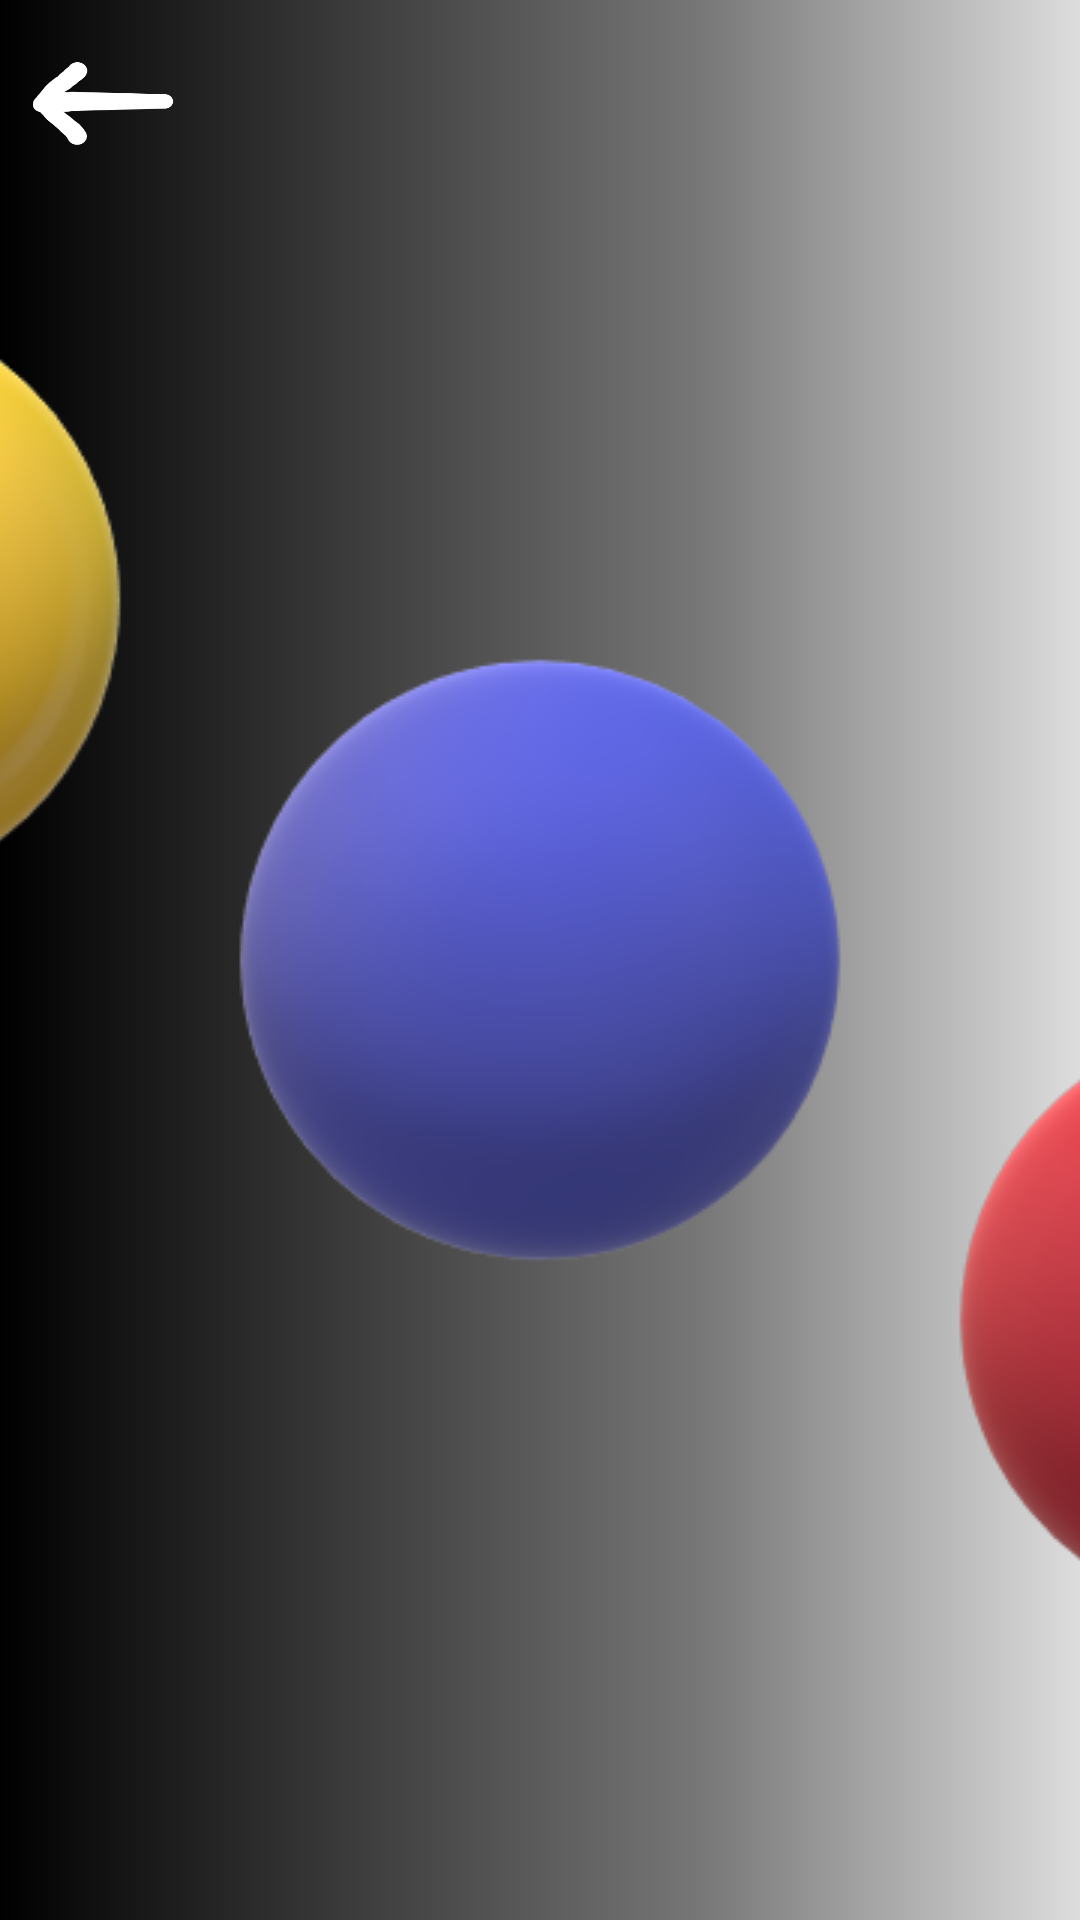

Icons on this 1080px×1920px Android screen, each with the point to tap as point (x, y):
back: point (87, 105)
